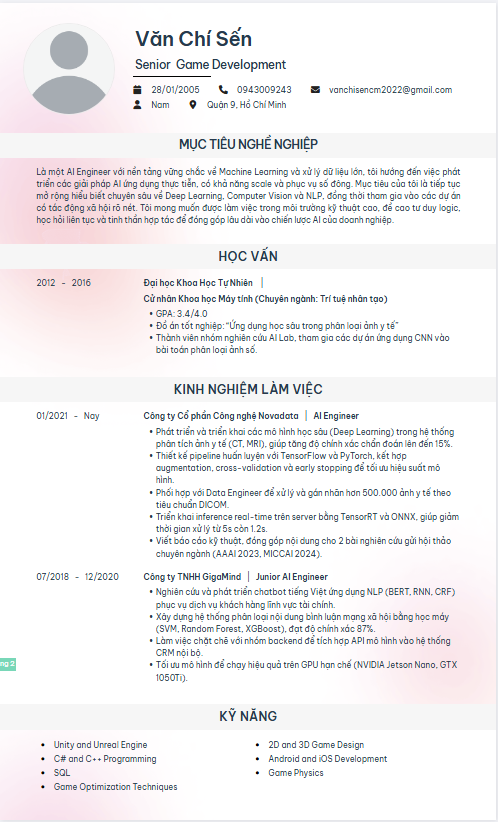address: (187, 98, 289, 113)
gpa: (147, 306, 209, 320)
level: (132, 54, 172, 73)
position: (174, 55, 291, 74)
skill: (33, 699, 428, 801)
